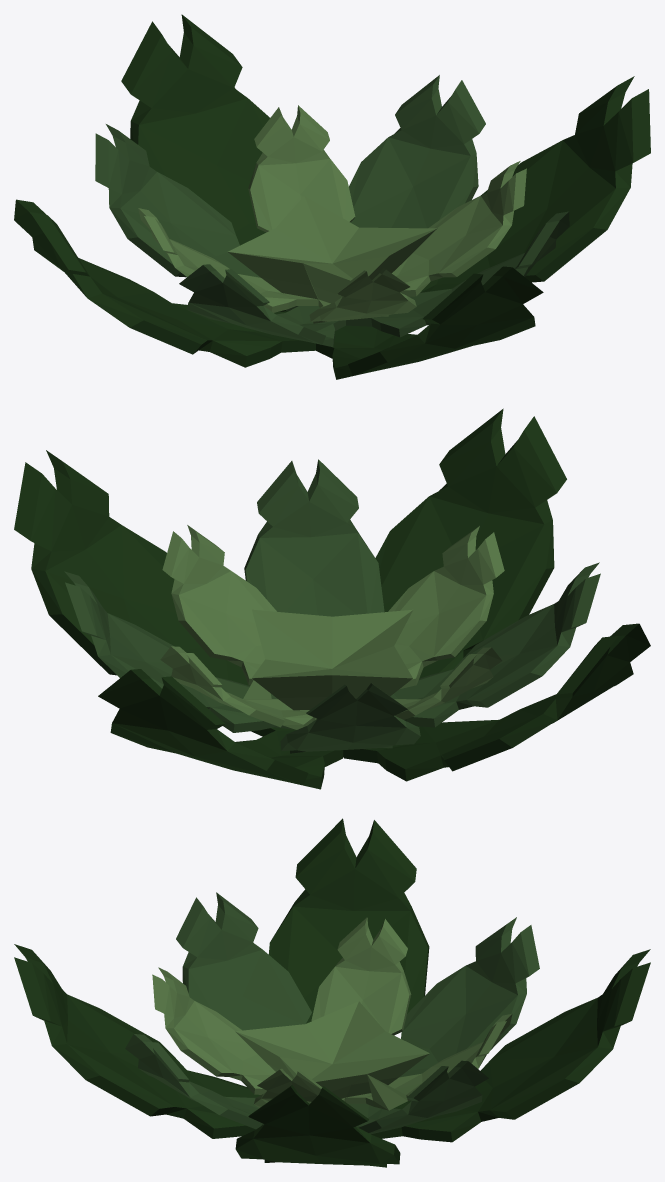
The model's file is Bush1.fbx.
3 renders of one model, top to bottom at view 1: azimuth 30°, elevation 25°; view 2: azimuth 150°, elevation 25°; view 3: azimuth 270°, elevation 25°, orthographic. The views are drawn at different scales.
Visible parts, largest first — view 1: Bush1; view 2: Bush1; view 3: Bush1.
Boxes of the visible parts, x1,y1,x2,y2 form: Bush1: [14, 14, 650, 379]; Bush1: [14, 408, 650, 789]; Bush1: [14, 818, 650, 1167].
Bounding box in the file's own units: 1107 × 333 × 1106.
